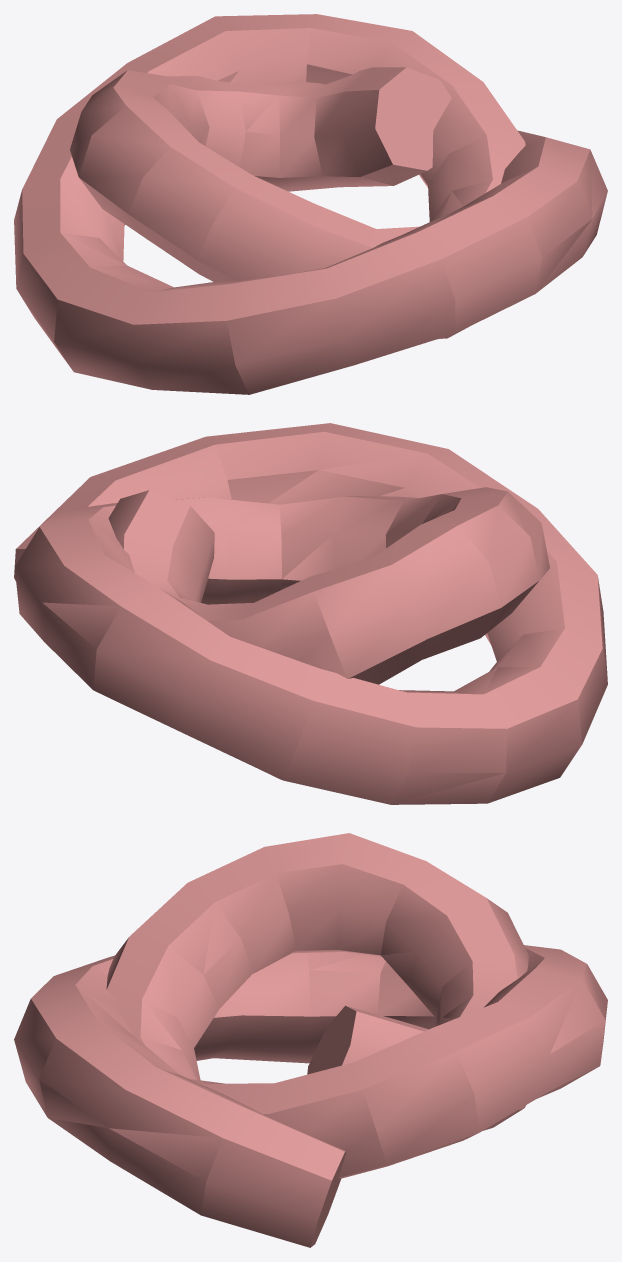
File: gut_coil.glb
3 views of the same model, one above another, from view 1: azimuth 30°, elevation 25°; view 2: azimuth 150°, elevation 25°; view 3: azimuth 270°, elevation 25° (orthographic). The views are drawn at different scales.
Parts seen in each view (by area): view 1: OUT; view 2: OUT; view 3: OUT.
Boxes of the visible parts, x1,y1,x2,y2 form: OUT: [14, 14, 607, 394]; OUT: [14, 423, 607, 804]; OUT: [14, 833, 607, 1247].
Size of the model in its own units: 0.2515 by 0.1098 by 0.2388.
